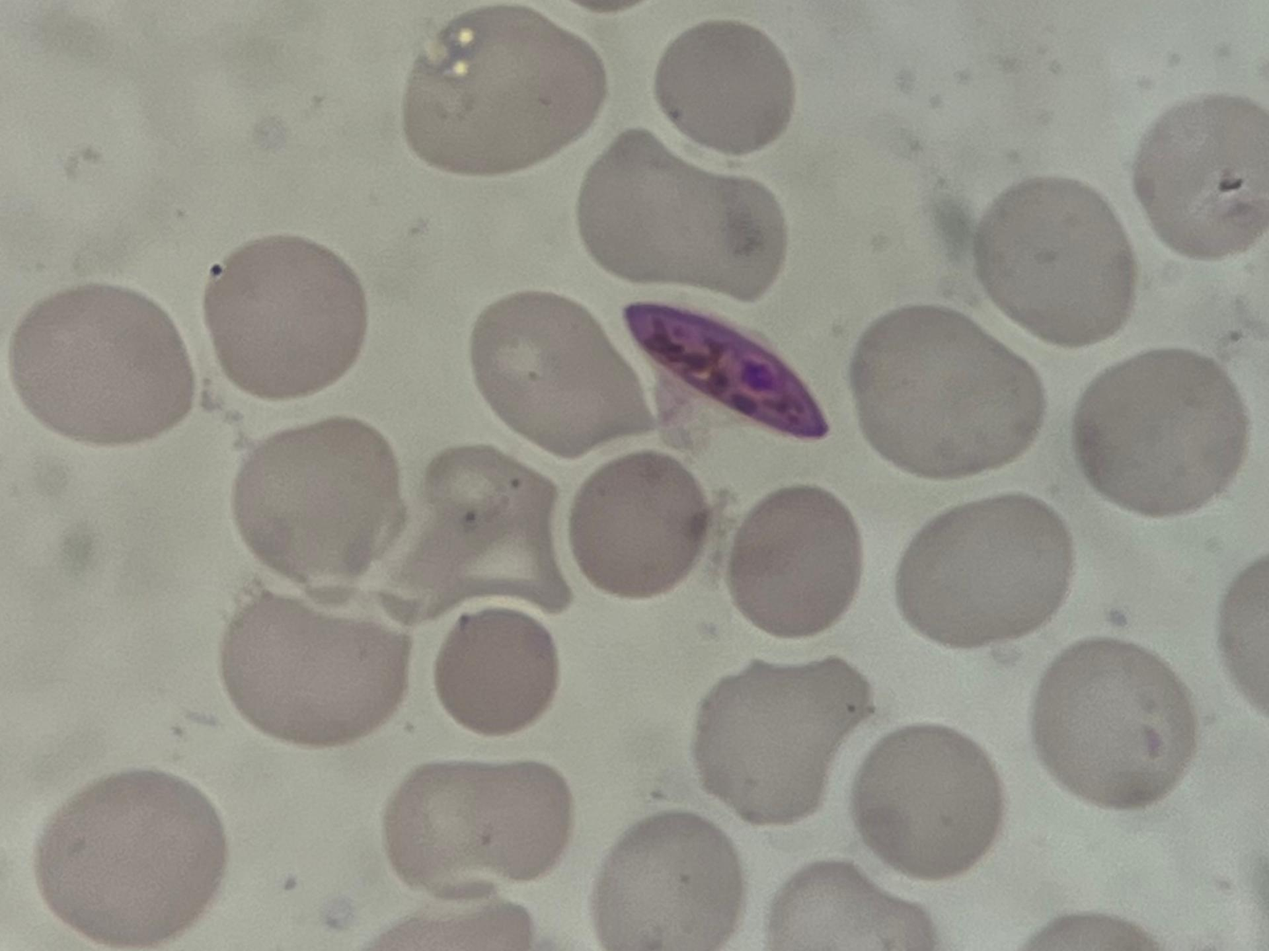Infected: (613, 299, 829, 465)
Uninfected: (575, 128, 787, 301), (402, 4, 609, 180), (687, 640, 873, 824), (853, 303, 1042, 483), (33, 764, 228, 937), (473, 293, 662, 464), (221, 582, 409, 748), (235, 415, 403, 598), (1076, 346, 1251, 517), (970, 177, 1141, 349), (12, 286, 194, 444), (1036, 641, 1205, 810), (200, 235, 364, 405), (901, 494, 1077, 651), (382, 759, 569, 896), (853, 722, 1004, 882), (1132, 91, 1269, 258), (572, 445, 705, 602), (588, 812, 737, 951), (731, 488, 866, 637), (654, 15, 795, 156), (438, 605, 556, 740)
